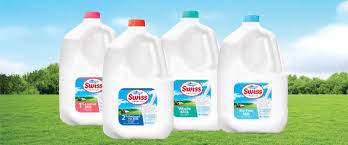milk: (103, 20, 174, 140), (220, 17, 289, 132), (166, 12, 220, 132), (63, 14, 109, 125)
